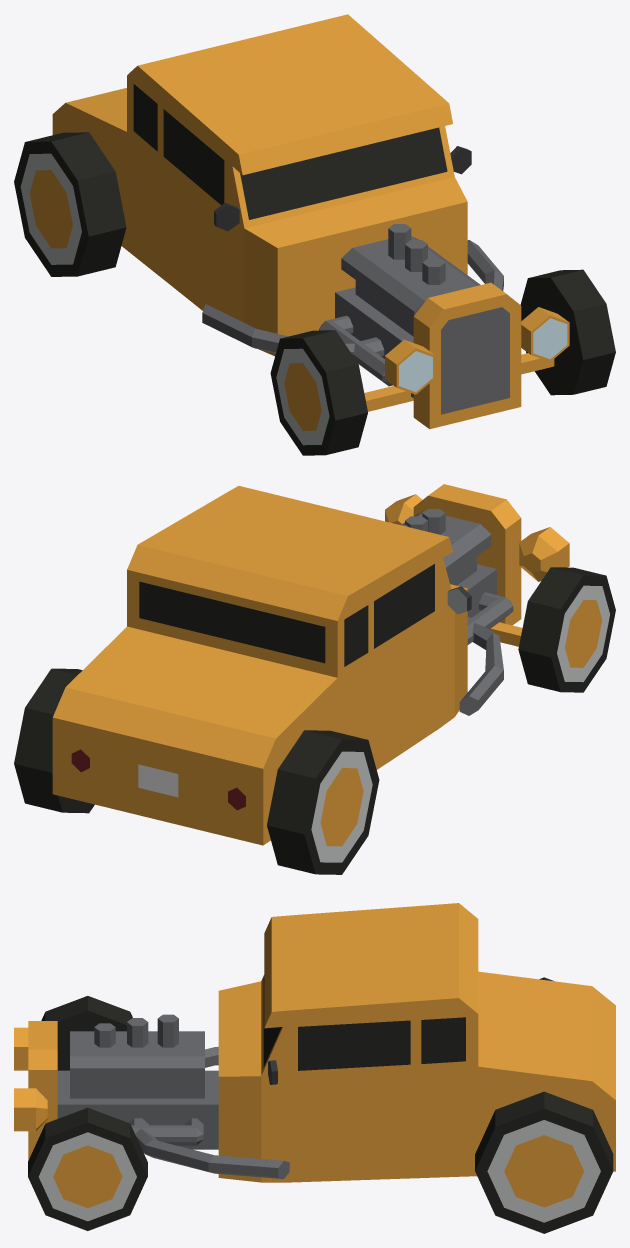
Rendered from Veh_HotRod_Yellow.obj.
3 views of the same model, one above another, from view 1: azimuth 30°, elevation 25°; view 2: azimuth 150°, elevation 25°; view 3: azimuth 270°, elevation 25° (orthographic). The views are drawn at different scales.
Bounding box in the file's own units: 1.21 × 0.9391 × 2.35.
